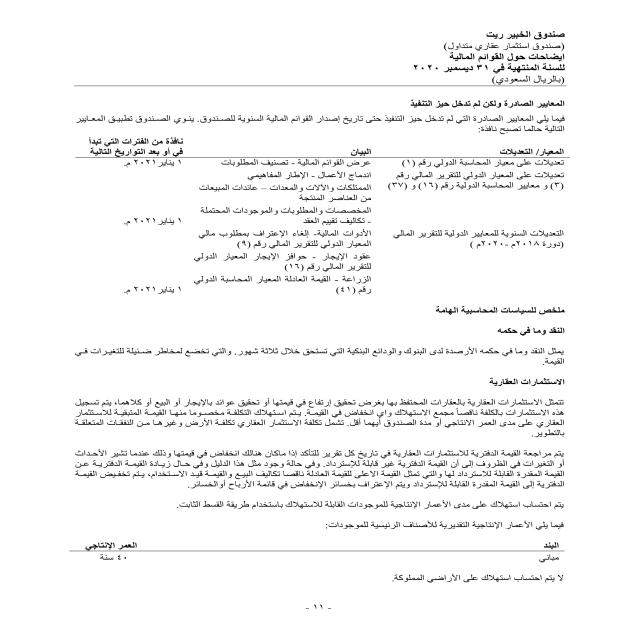notes: (446, 52, 577, 62)
table: (53, 137, 586, 301)
